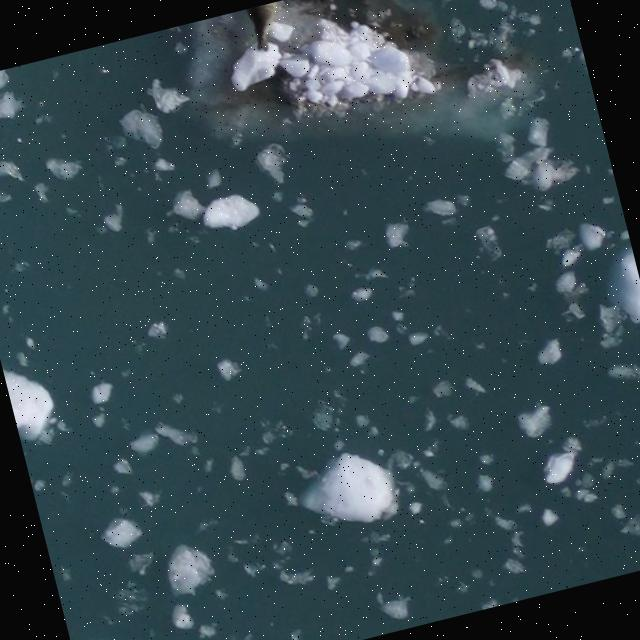seal: (248, 0, 280, 50)
